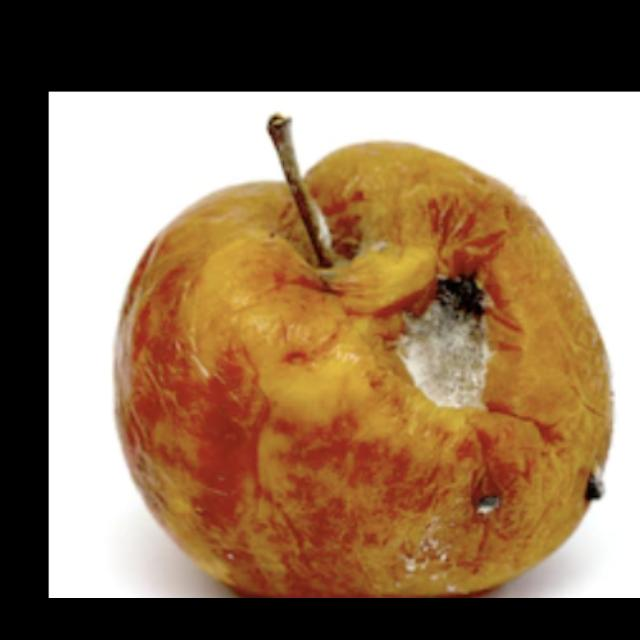Apel Tidak Segar: (107, 131, 617, 597)
